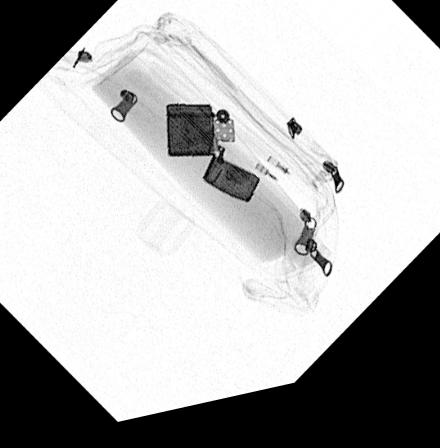Lighter: (165, 109, 260, 214)
